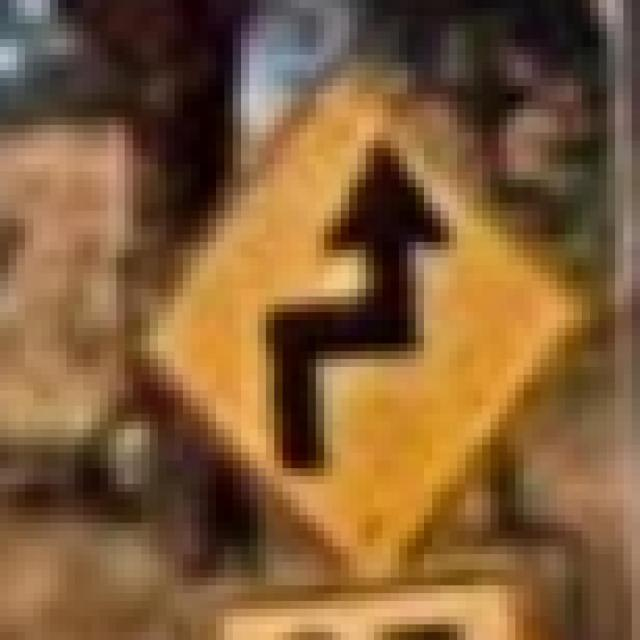Tikungan Ganda Pertama Ke Kanan: (84, 31, 598, 617)
